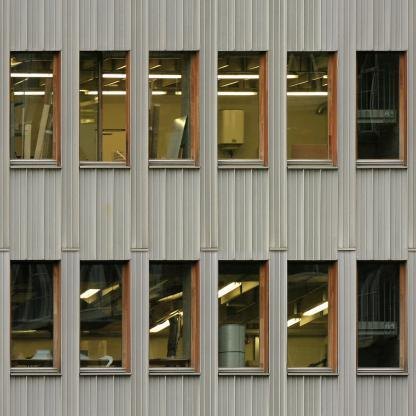Building Outline: (0, 0, 416, 415)
Facade: (0, 1, 416, 416)
Floor: (0, 0, 415, 225), (0, 237, 416, 403)
Floor Slab: (0, 403, 416, 416), (0, 226, 416, 237)
Window: (80, 260, 131, 375), (287, 260, 338, 375), (357, 51, 408, 166), (10, 51, 61, 166), (80, 51, 131, 166), (149, 51, 200, 166), (217, 51, 268, 166), (287, 51, 338, 166), (357, 261, 408, 375), (10, 260, 61, 374), (149, 261, 200, 375), (217, 260, 268, 374)
